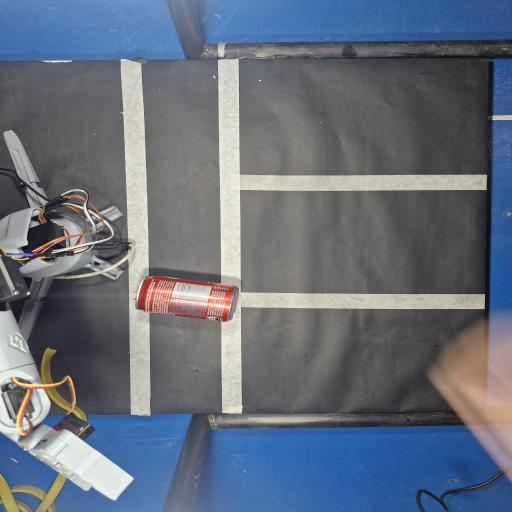lata: (136, 276, 238, 322)
